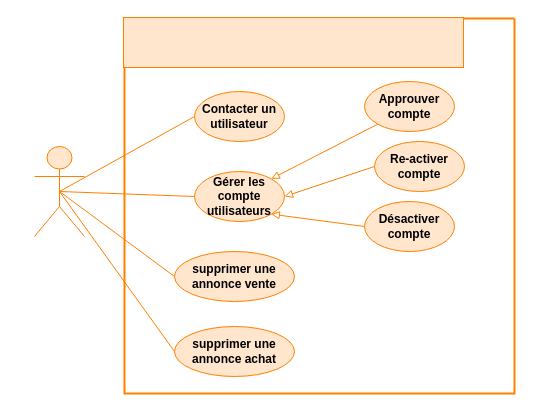
Image size: 533x412. Some labels were removed from this diagram. Here are the shapes that lost their labels. From the top down, the centre of each, then its label:
At point (293, 42): "Plateforme web pour améliorer et optimiser l'écosystème commercial".
At point (59, 191): "Administrateur".
